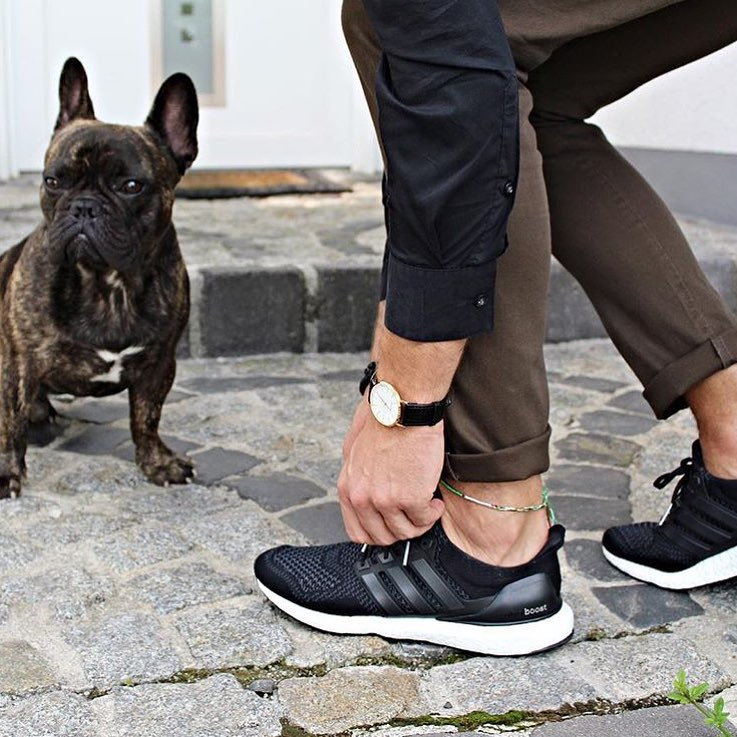sneaker: (230, 447, 598, 680), (582, 356, 737, 601)
